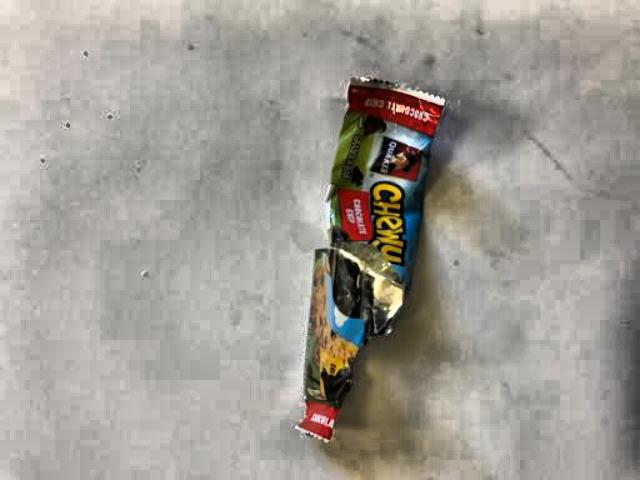Plastic: (285, 66, 451, 444)
